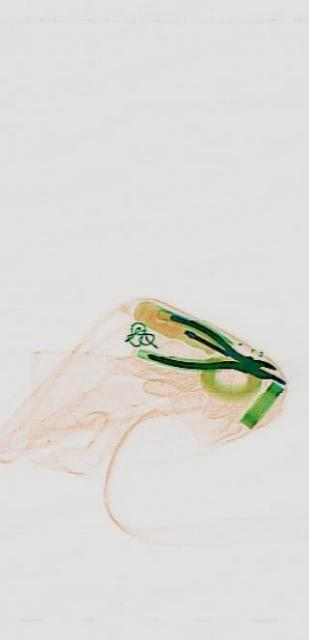Pliers: (145, 304, 276, 401)
